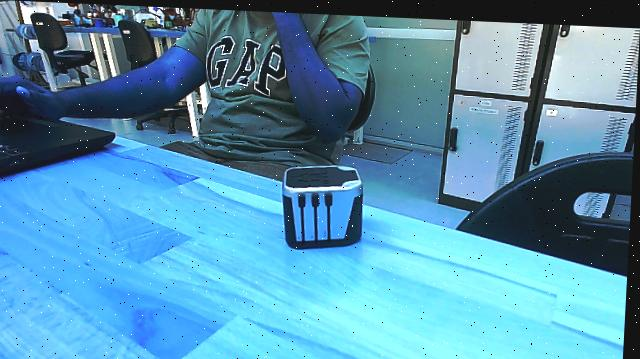adapter: (278, 159, 370, 252)
